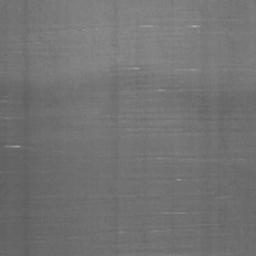Waist folding: (106, 113, 256, 256), (111, 62, 256, 94), (48, 23, 98, 32), (0, 143, 34, 150), (38, 235, 78, 240), (0, 116, 21, 121), (188, 23, 201, 30), (139, 23, 154, 29)
